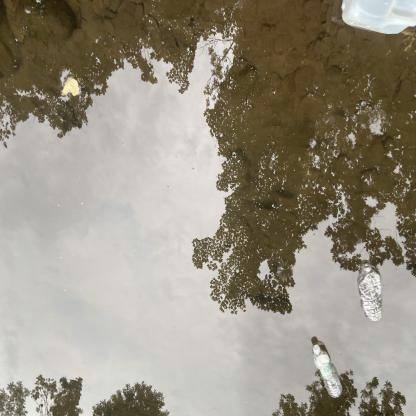Plastic: (336, 0, 416, 38), (307, 340, 349, 404), (355, 259, 389, 327)
